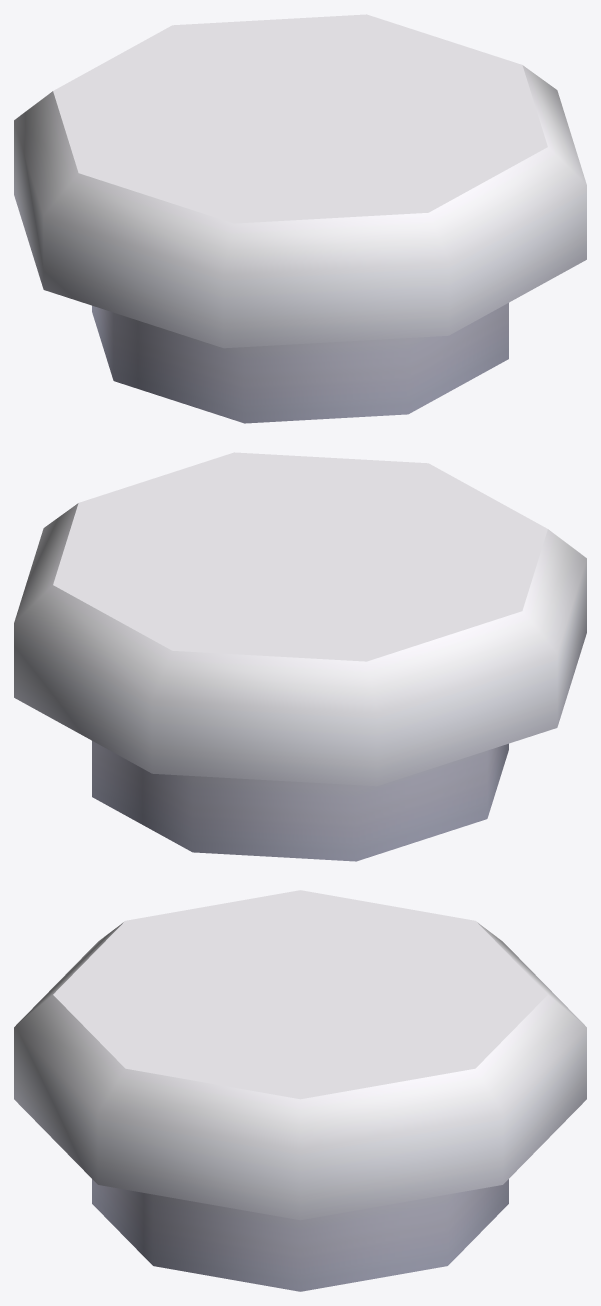
Rendered from kenney-brick-none-hq-plate-1-x-1-round.glb.
The picture shows the model from 3 angles, top to bottom: view 1: azimuth 30°, elevation 25°; view 2: azimuth 150°, elevation 25°; view 3: azimuth 270°, elevation 25°; orthographic projection. The views are drawn at different scales.
Parts seen in each view (by area): view 1: none-hq-plate-1x1-round; view 2: none-hq-plate-1x1-round; view 3: none-hq-plate-1x1-round.
Boxes of the visible parts, box(x1,y1,x2,y2) form: none-hq-plate-1x1-round: box(14, 14, 586, 423); none-hq-plate-1x1-round: box(14, 452, 586, 861); none-hq-plate-1x1-round: box(14, 890, 586, 1291).
Size of the model in its own units: 0.0795 by 0.032 by 0.0795.
1 material, 1 textured.
